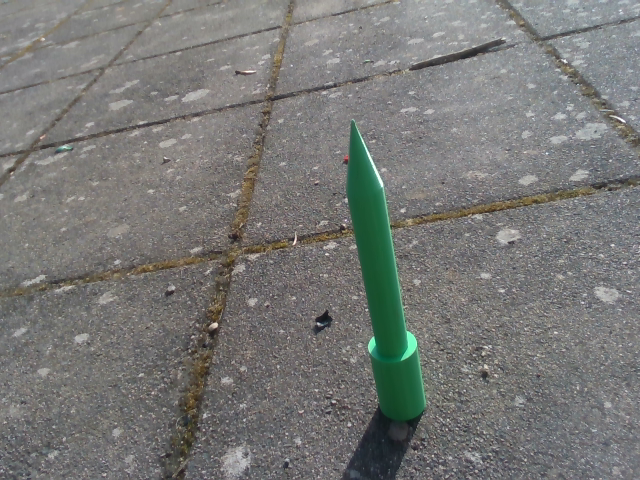Probe: (321, 106, 435, 429)
